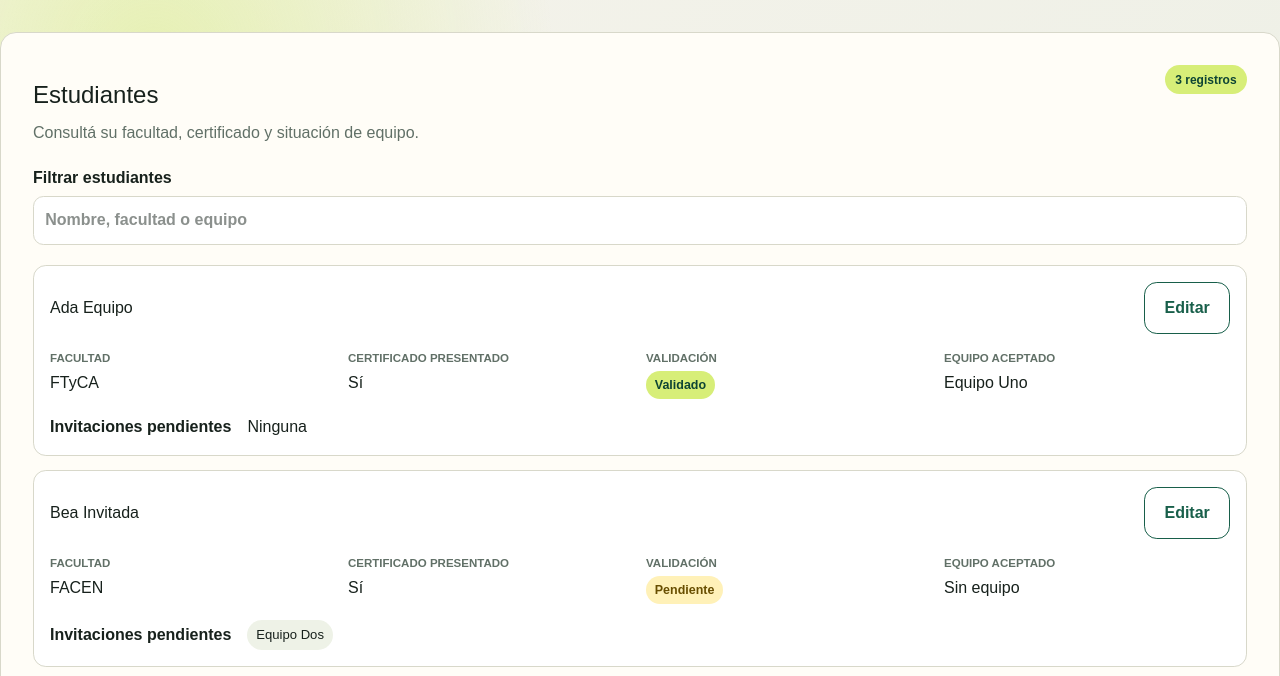
Test: administrative student directory › loads student detail on demand, saves it and refreshes the minimal projection
Expected: the heading "Ada Equipo" is shown, [50,296,133,320]
Click the button with aria-label "Editar inscripción de Ada Equipo" at (1187, 308), box [1144,282,1230,334]
(page scrolled)
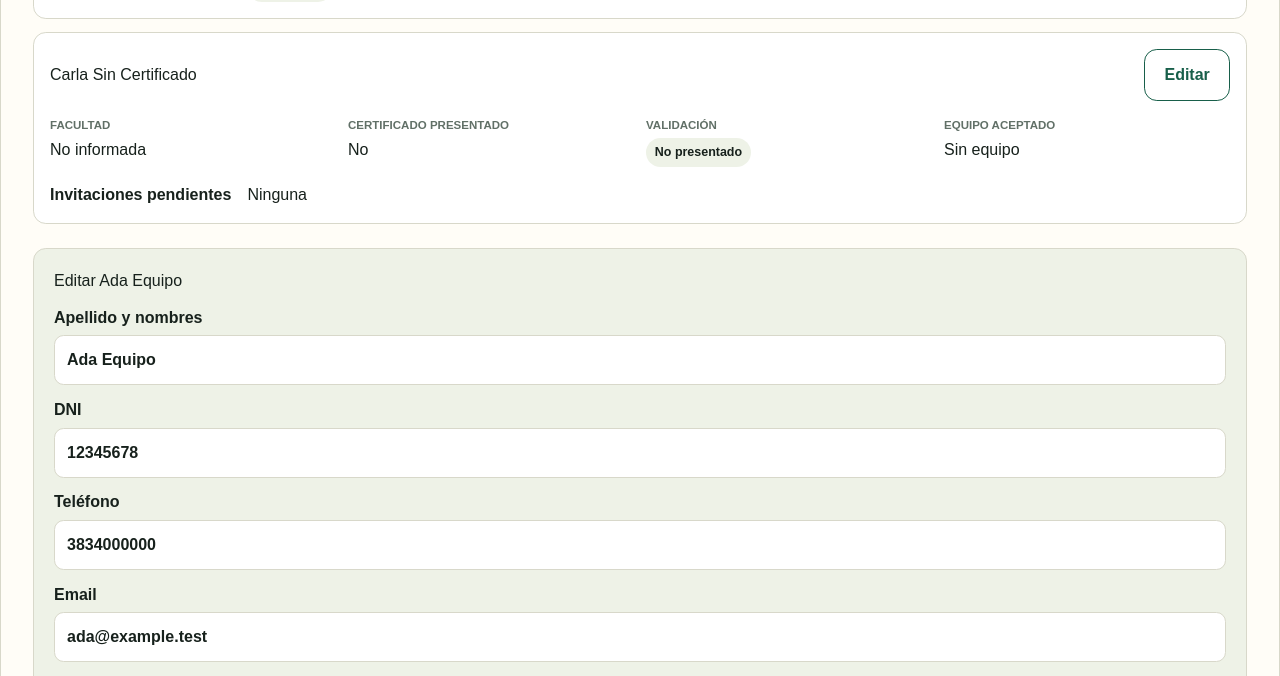
Replace the text in the field labelled "Apellido y nombres" with "Ada Actualizada" at (640, 360), box [54,335,1226,385]
(page scrolled)
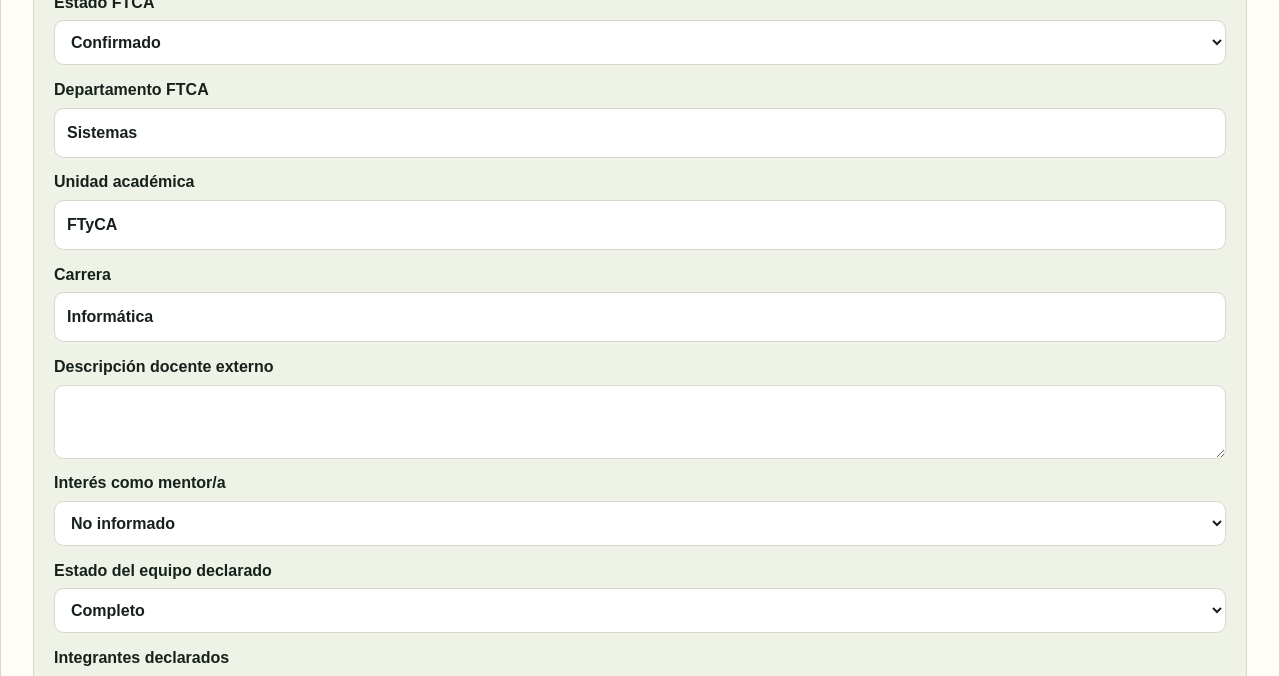
Submit the form named "Editar inscripción de Ada Equipo"
(page scrolled)
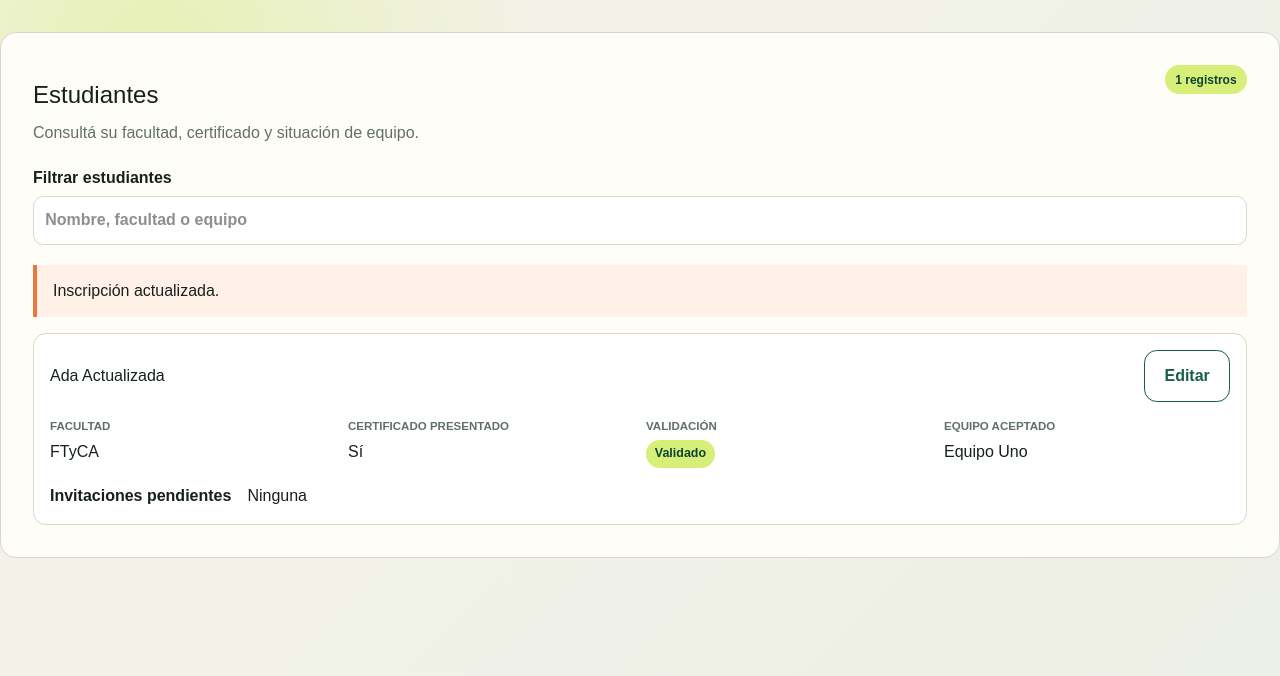
Now the heading "Ada Actualizada" is shown, box [50,364,165,388]
